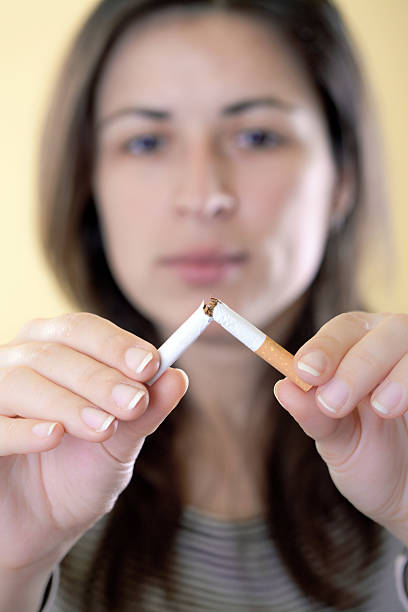cigarette: (209, 297, 315, 393), (141, 298, 213, 386)
